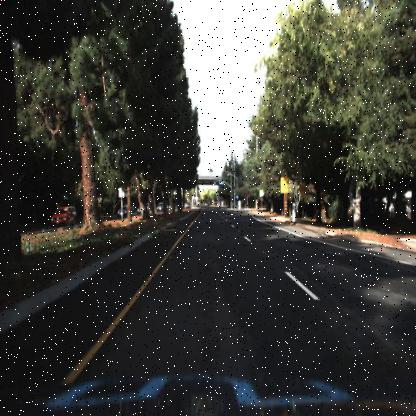car: (48, 200, 77, 230), (115, 205, 131, 224)
